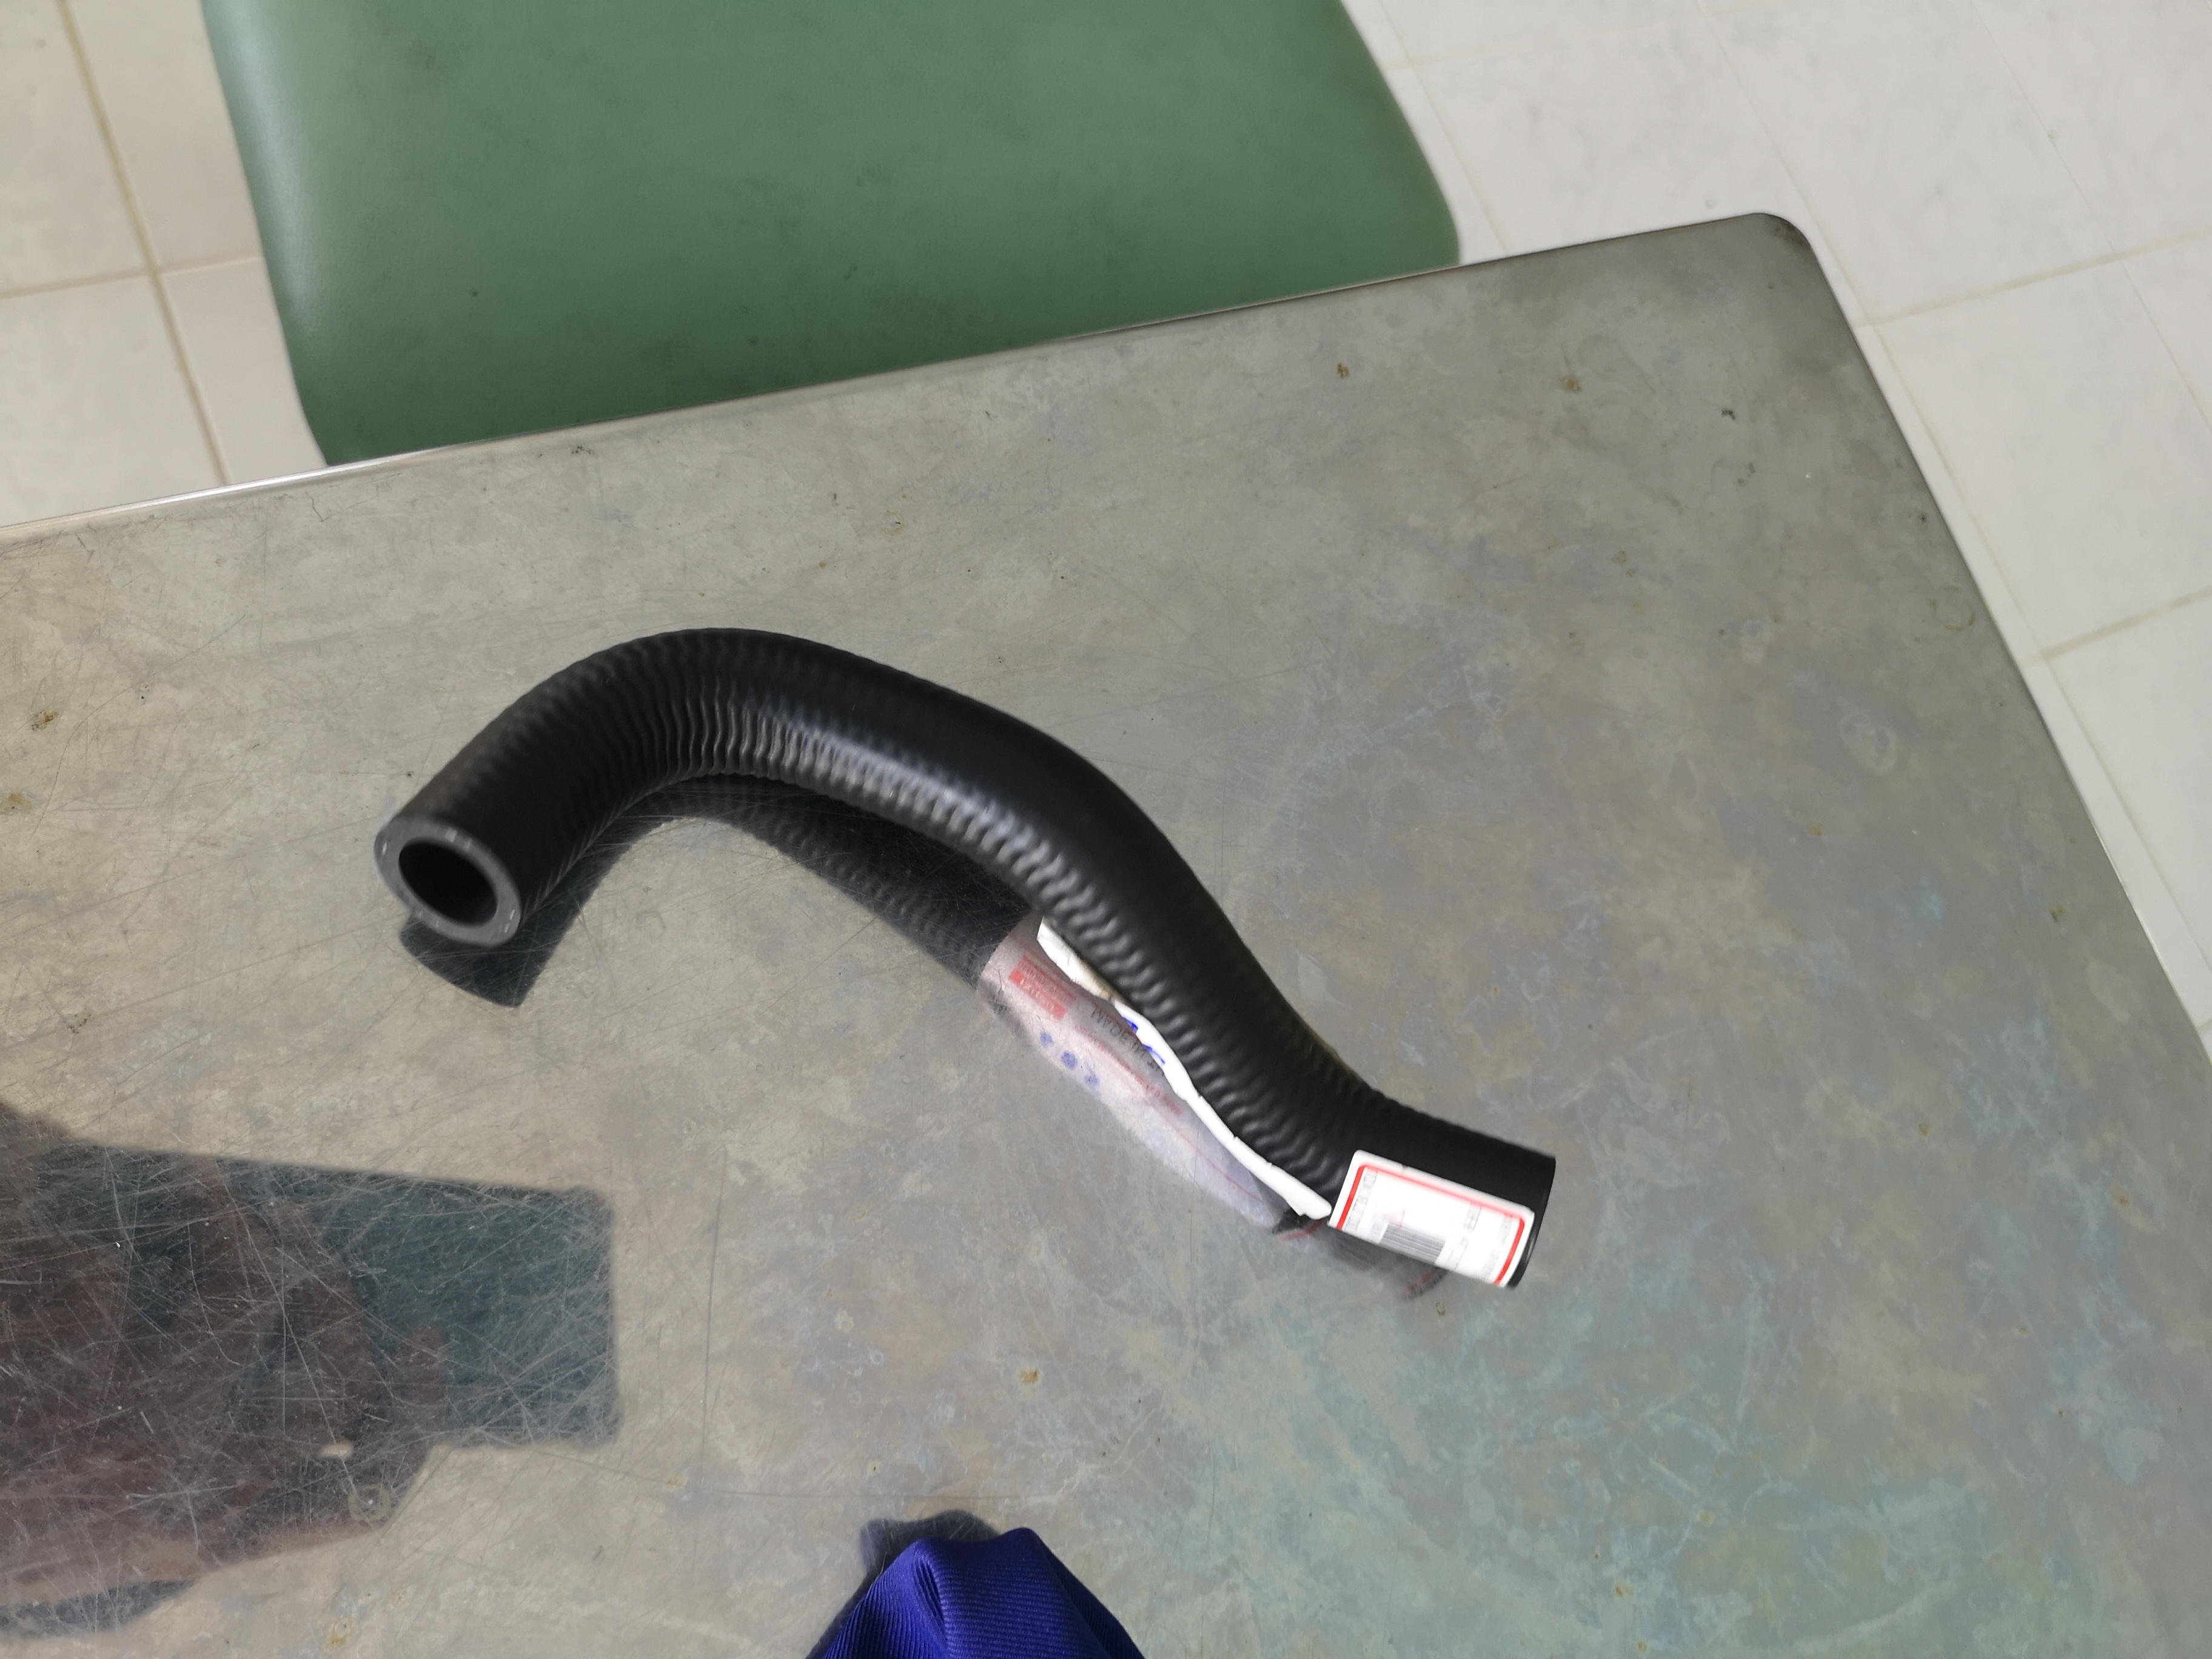ท่อยางน้ำมันเลี้ยงเทอร์โบ: (286, 279, 1770, 1448)
